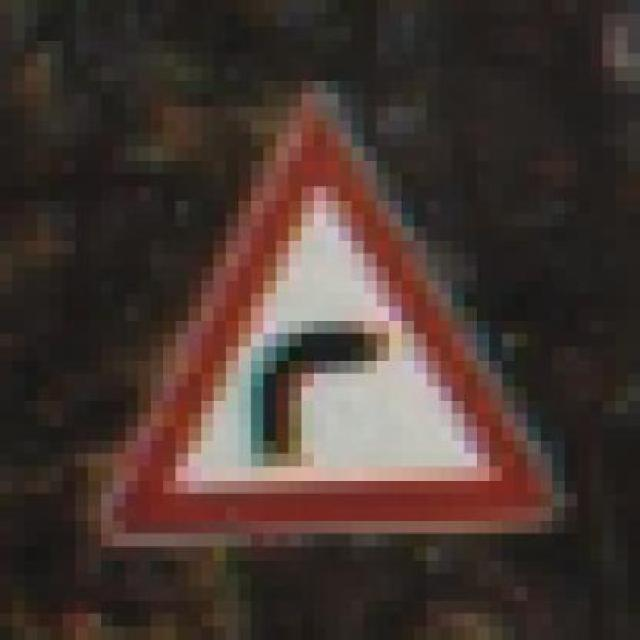Dangerous Rright Curve Ahead: (62, 80, 566, 534)
